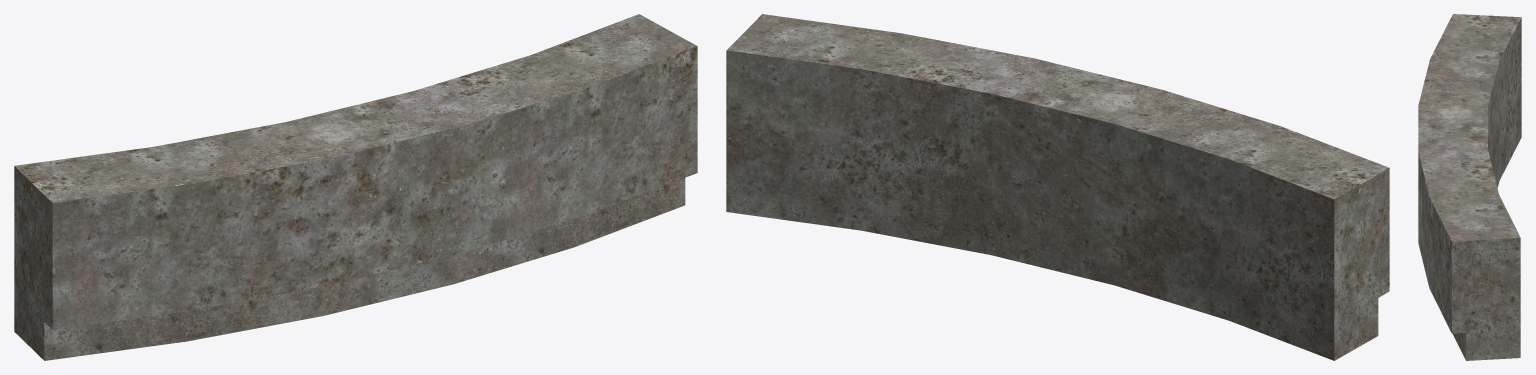
Rendered from mg_12__block.fbx.
3 renders of one model, left to right at view 1: azimuth 30°, elevation 25°; view 2: azimuth 150°, elevation 25°; view 3: azimuth 270°, elevation 25°, orthographic. The views are drawn at different scales.
Visible parts, largest first — view 1: mg_12__block; view 2: mg_12__block; view 3: mg_12__block.
Boxes of the visible parts, x1,y1,x2,y2 form: mg_12__block: (14,14,697,360); mg_12__block: (726,14,1389,360); mg_12__block: (1418,14,1521,360).
Bounding box in the file's own units: 199 × 48.87 × 38.16.
